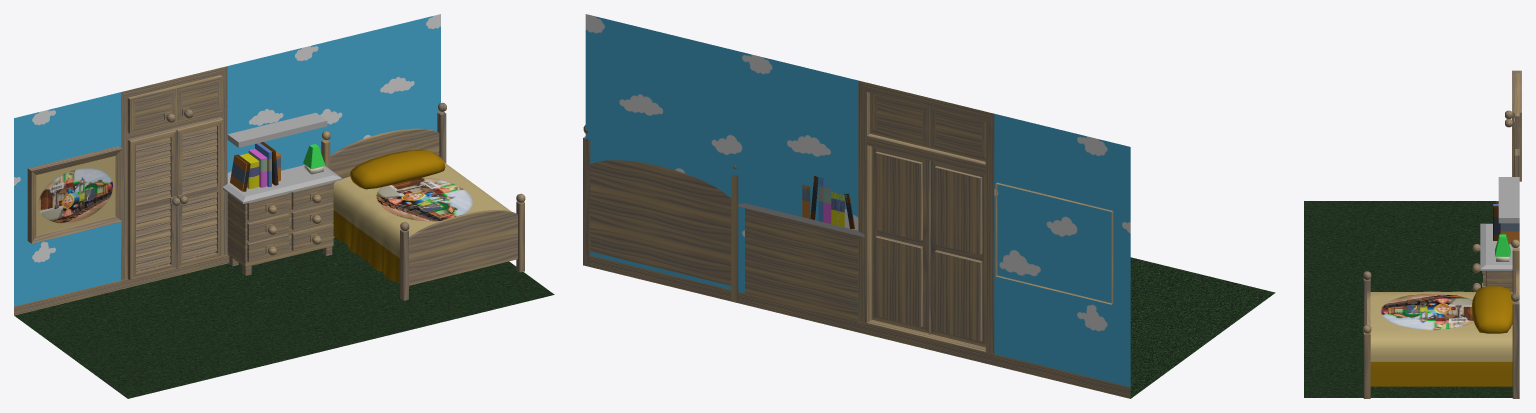
The model's file is Room.fbx.
3 views of the same model, side by side, from view 1: azimuth 30°, elevation 25°; view 2: azimuth 150°, elevation 25°; view 3: azimuth 270°, elevation 25° (orthographic). The views are drawn at different scales.
Visible parts, largest first — view 1: wallfloor, bed, furniture, wardrobe, picture, books, shelf, lamp; view 2: wallfloor, bed, furniture, books, picture; view 3: wallfloor, bed, furniture, shelf, picture, books, lamp.
Part boxes in pixels (x1=…): wallfloor: x1=14, y1=14, x2=554, y2=398; bed: x1=321, y1=102, x2=525, y2=300; furniture: x1=223, y1=165, x2=341, y2=275; wardrobe: x1=136, y1=107, x2=217, y2=270; picture: x1=27, y1=146, x2=122, y2=243; books: x1=230, y1=142, x2=280, y2=191; shelf: x1=227, y1=113, x2=327, y2=147; lamp: x1=303, y1=144, x2=325, y2=174; wallfloor: x1=585, y1=14, x2=1275, y2=398; bed: x1=583, y1=125, x2=738, y2=302; furniture: x1=738, y1=203, x2=864, y2=320; books: x1=802, y1=176, x2=854, y2=228; picture: x1=995, y1=182, x2=1113, y2=304; wallfloor: x1=1304, y1=73, x2=1519, y2=397; bed: x1=1363, y1=239, x2=1519, y2=398; furniture: x1=1472, y1=223, x2=1519, y2=291; shelf: x1=1498, y1=177, x2=1519, y2=223; picture: x1=1512, y1=70, x2=1521, y2=181; books: x1=1493, y1=201, x2=1519, y2=244; lamp: x1=1495, y1=234, x2=1510, y2=261.
Size of the model in its own units: 419 by 194 by 184.
